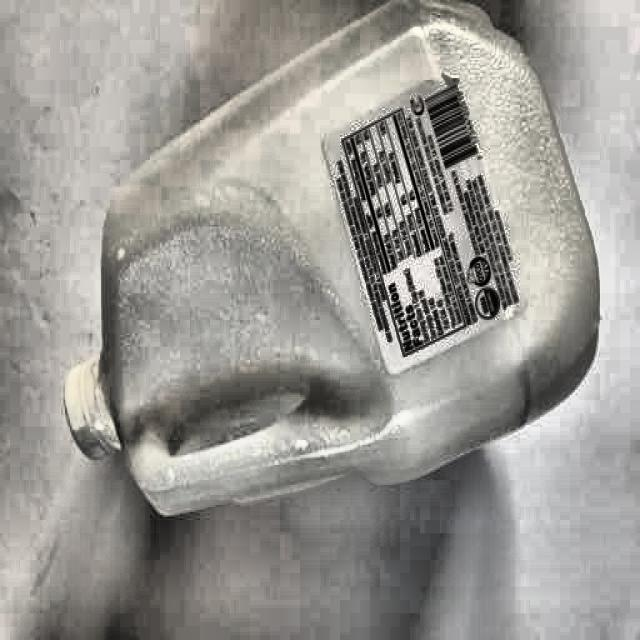plastic: (65, 80, 598, 518)
